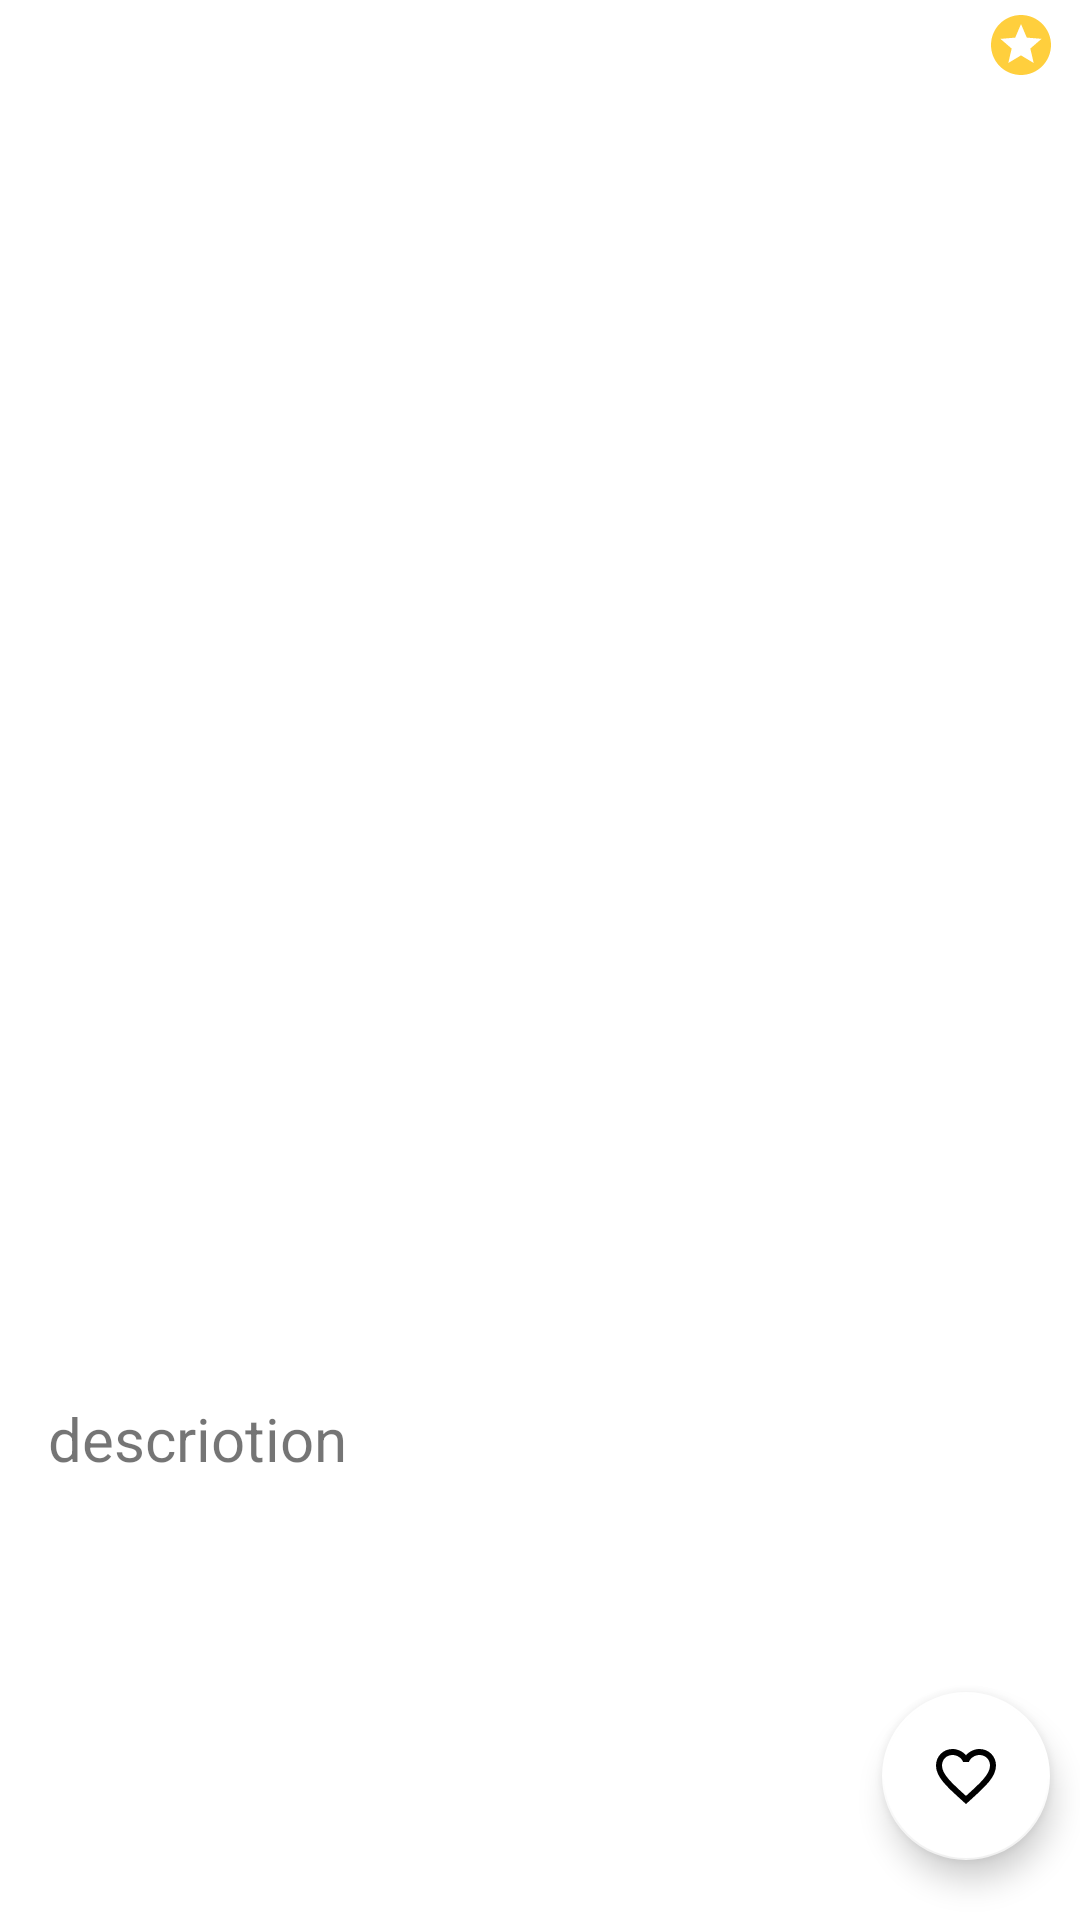

Icons on this 1080px×1920px Android screen, each with its box as (x1, y1, x2, y2):
favorite add: (888, 1749, 1050, 1860)
